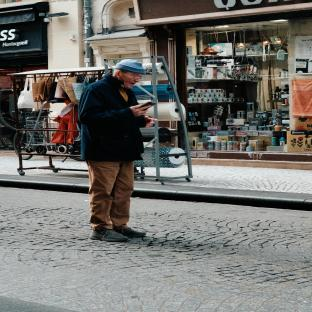Human: (78, 60, 157, 242)
